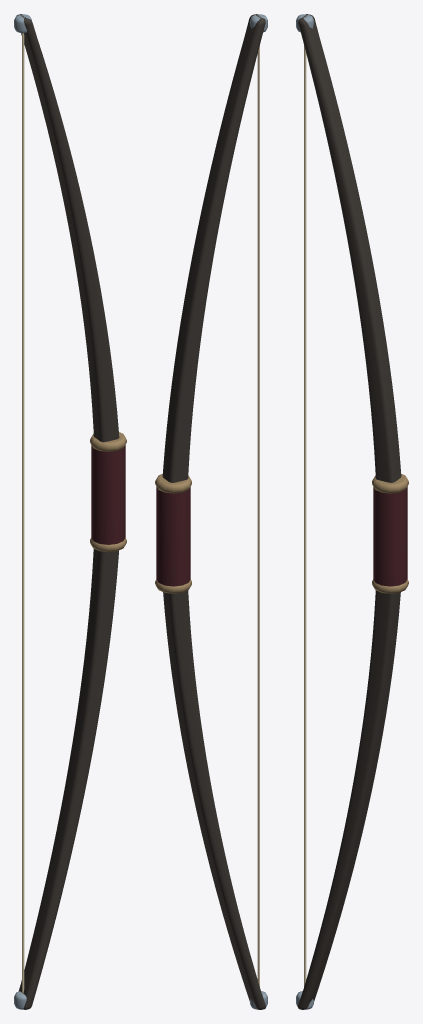
Rendered from ashwood-sentinel.glb.
3 views of the same model, side by side, from view 1: azimuth 30°, elevation 25°; view 2: azimuth 210°, elevation 25°; view 3: azimuth 330°, elevation 25° (orthographic).
Visible parts, largest first — view 1: Continuous tapered self-bow limb, Oxblood bow grip, Continuous flax string, Flush grip binding.001, Flush grip binding; view 2: Continuous tapered self-bow limb, Oxblood bow grip, Continuous flax string, Flush grip binding.001, Flush grip binding; view 3: Continuous tapered self-bow limb, Oxblood bow grip, Continuous flax string, Flush grip binding.001, Flush grip binding.
Part boxes in pixels (x1,y1,x2,y2): Continuous tapered self-bow limb: [16, 14, 119, 1009]; Oxblood bow grip: [91, 445, 125, 544]; Continuous flax string: [22, 33, 24, 993]; Flush grip binding.001: [90, 432, 126, 451]; Flush grip binding: [90, 538, 126, 552]; Continuous tapered self-bow limb: [162, 14, 265, 1009]; Oxblood bow grip: [156, 487, 190, 586]; Continuous flax string: [257, 45, 259, 986]; Flush grip binding.001: [155, 473, 191, 493]; Flush grip binding: [155, 579, 191, 593]; Continuous tapered self-bow limb: [298, 14, 401, 1009]; Oxblood bow grip: [373, 487, 407, 586]; Continuous flax string: [304, 45, 306, 986]; Flush grip binding.001: [372, 473, 408, 493]; Flush grip binding: [372, 579, 408, 593].
Bounding box in the file's own units: 0.198 × 1.72 × 0.058.
